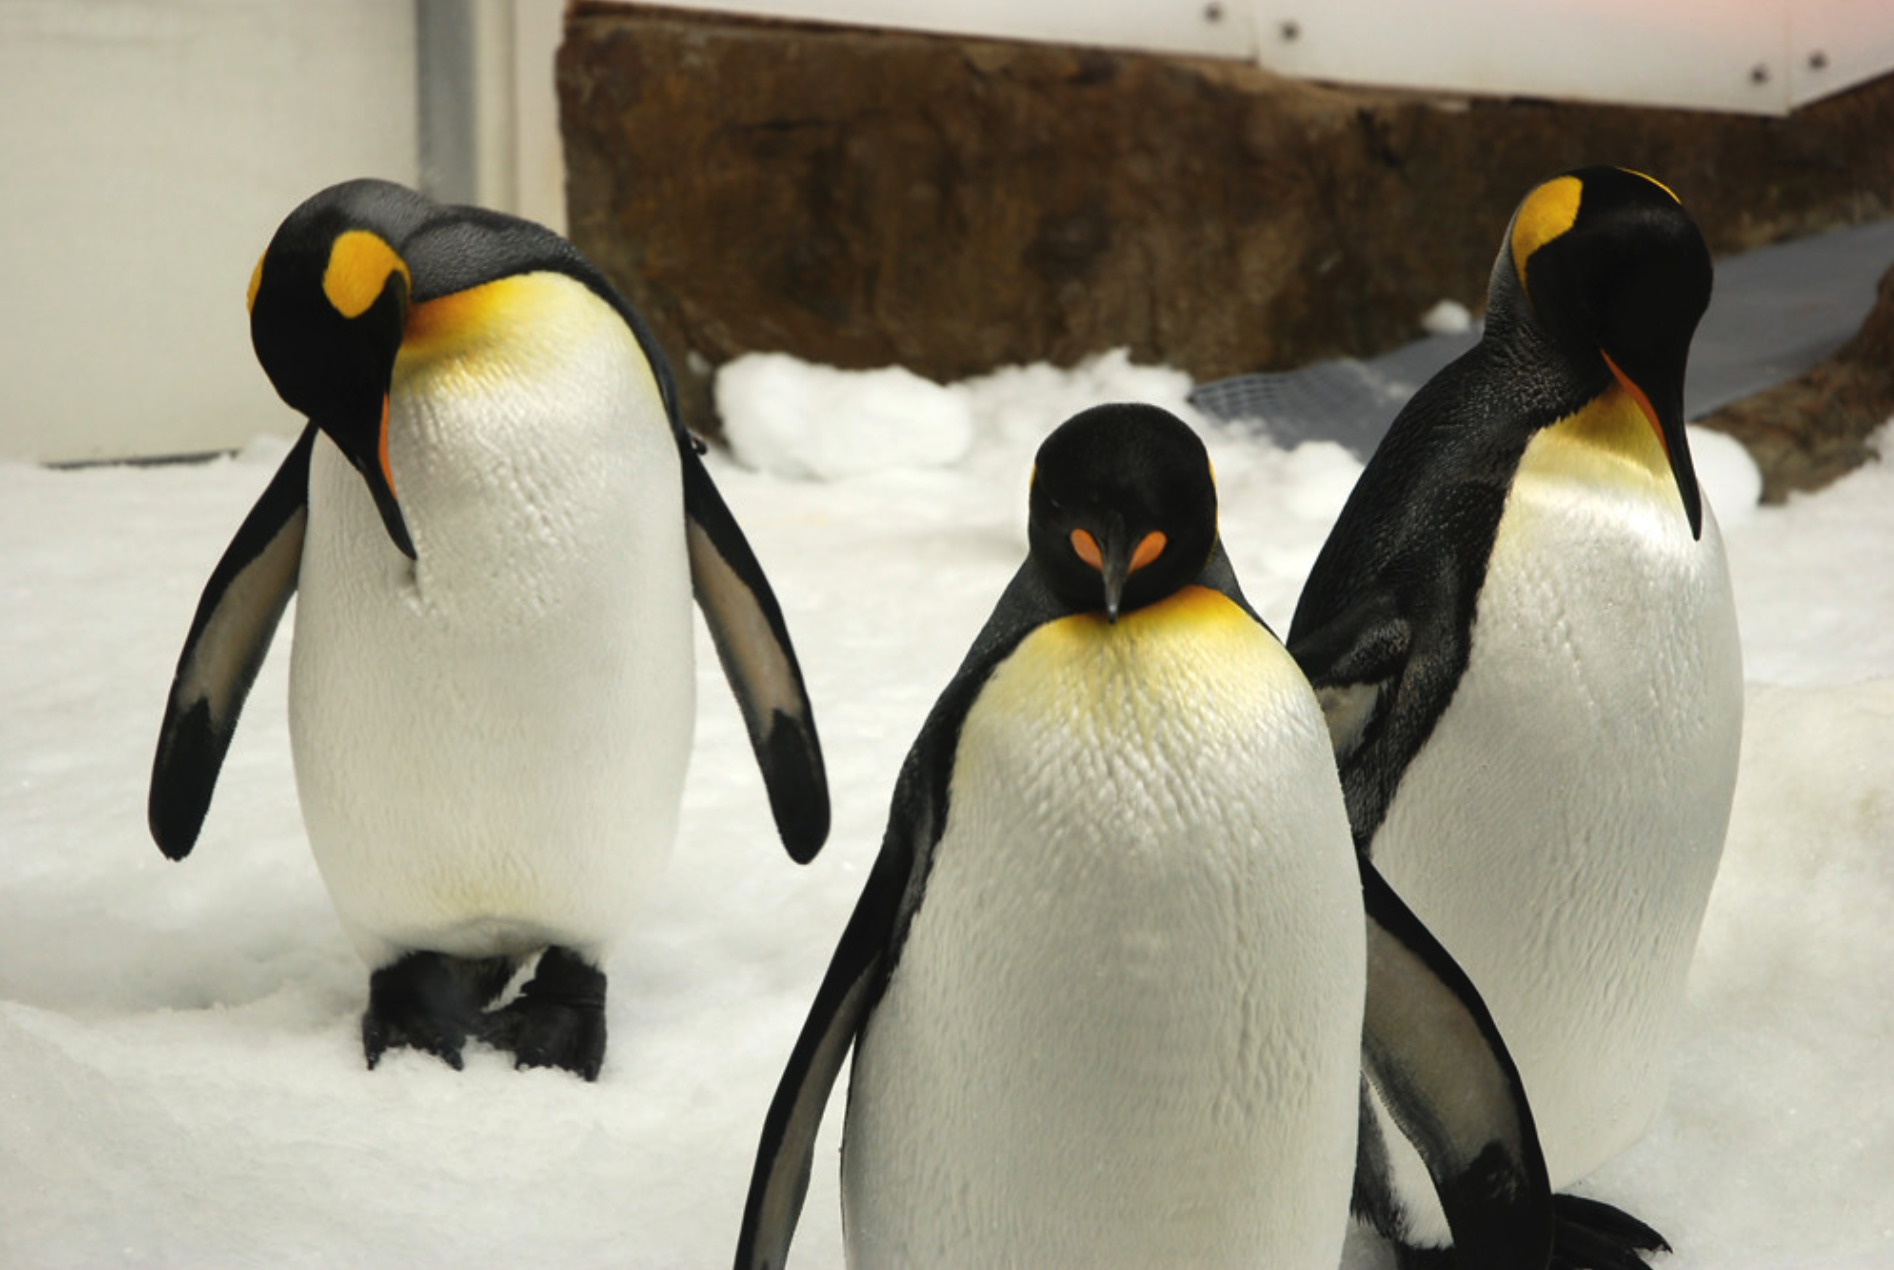penguin: (744, 398, 1557, 1270), (142, 157, 841, 1116), (1223, 163, 1749, 1270)
